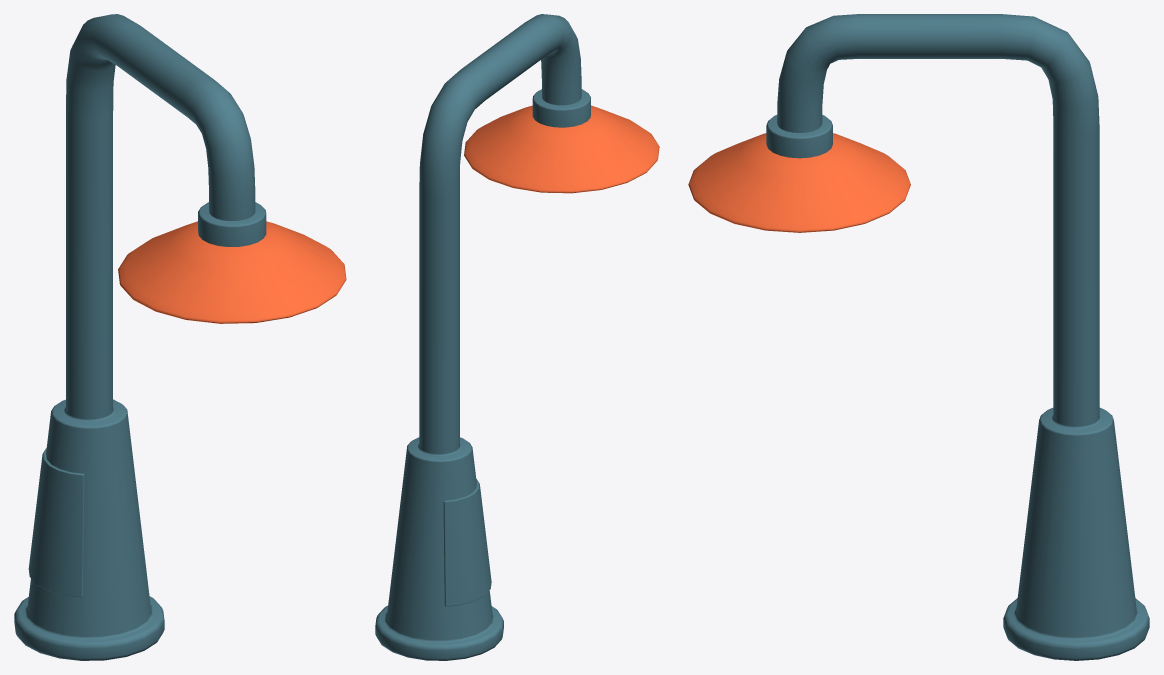
Rendered from City_1_Street_Lamp_1.glb.
The picture shows the model from 3 angles, left to right: view 1: azimuth 30°, elevation 25°; view 2: azimuth 150°, elevation 25°; view 3: azimuth 270°, elevation 25°; orthographic projection. The views are drawn at different scales.
Parts seen in each view (by area): view 1: City_1_Street_Lamp_1; view 2: City_1_Street_Lamp_1; view 3: City_1_Street_Lamp_1.
Boxes of the visible parts, x1,y1,x2,y2 form: City_1_Street_Lamp_1: (14,14,346,660); City_1_Street_Lamp_1: (375,14,659,660); City_1_Street_Lamp_1: (688,14,1149,660).
Bounding box in the file's own units: 1.3 × 3.96 × 2.69.
Materials: 1 (1 with a texture image).
